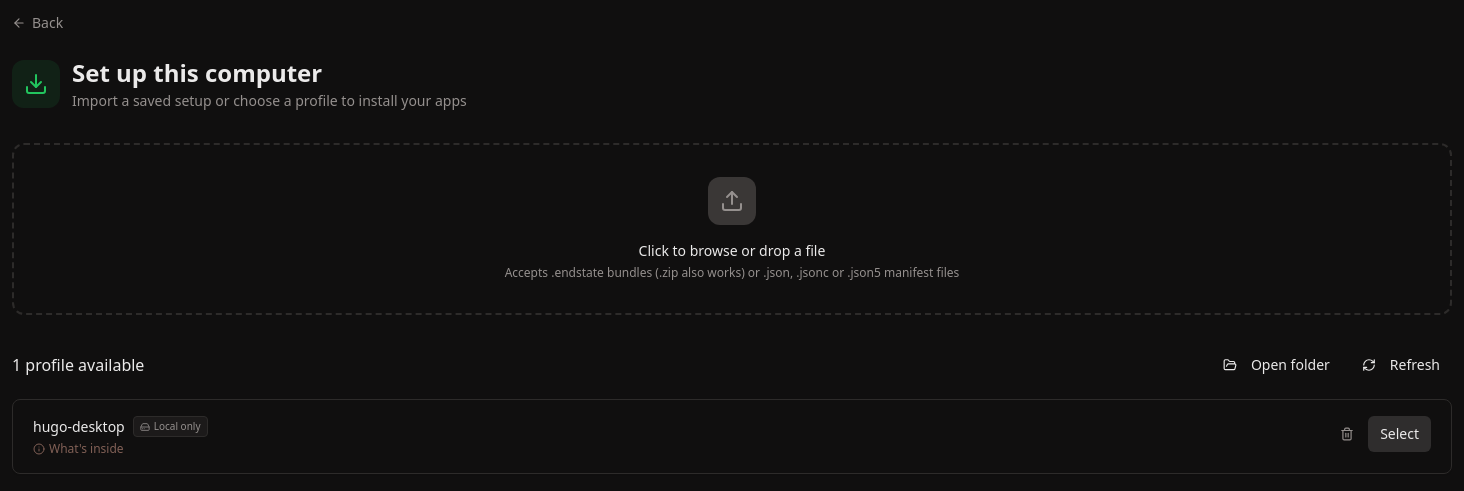
Test: SetupFlow dry-run disclosure › does not claim setup completed when the run was a dry run
This screenshot has width=1464, height=491.
Click the button "hugo-desktop Local only What's inside Select": x=79, y=426 [12,399,1452,474]
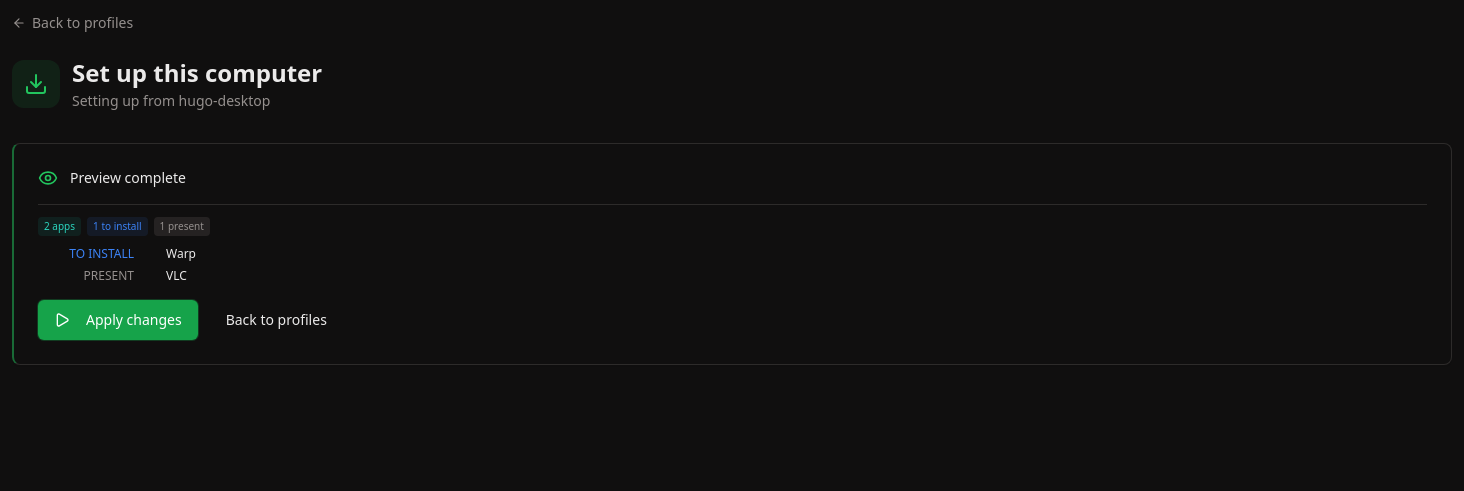
Result: the button with test id "setup-flow-apply" is shown
Click the button with test id "setup-flow-apply": x=118, y=320 [38,300,198,340]
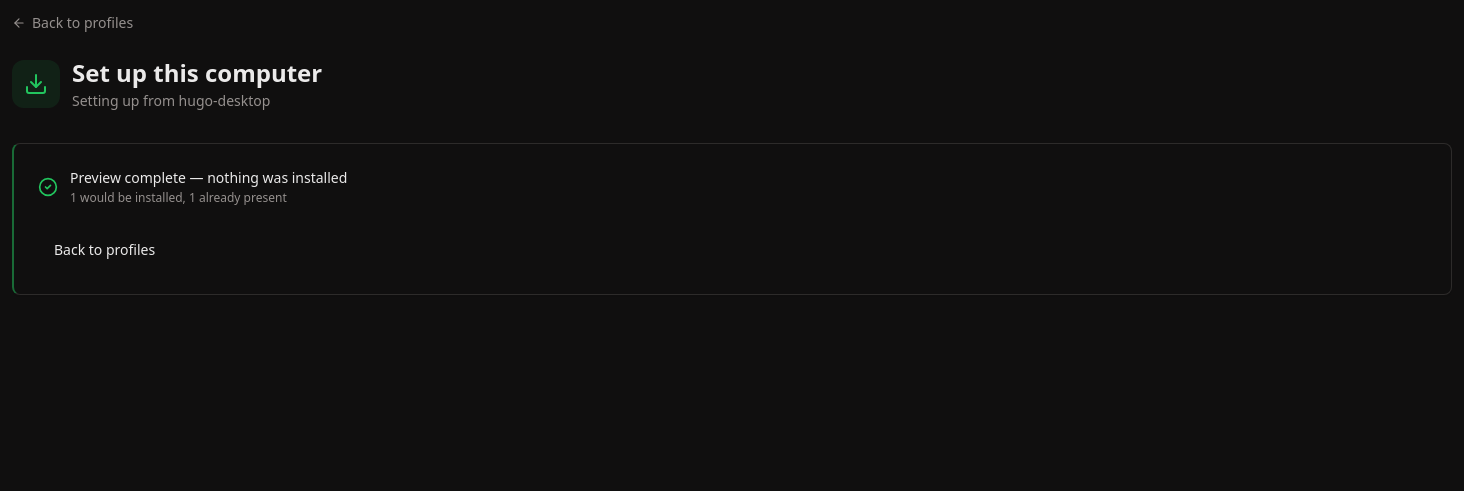
Result: the text "Preview complete — nothing was installed" is shown at [70,168,347,188]
